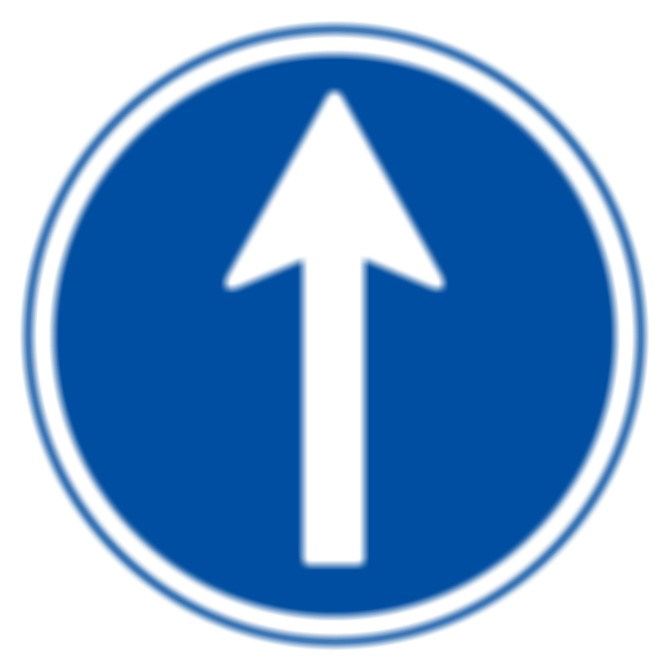Direction_sign: (22, 26, 656, 668)
